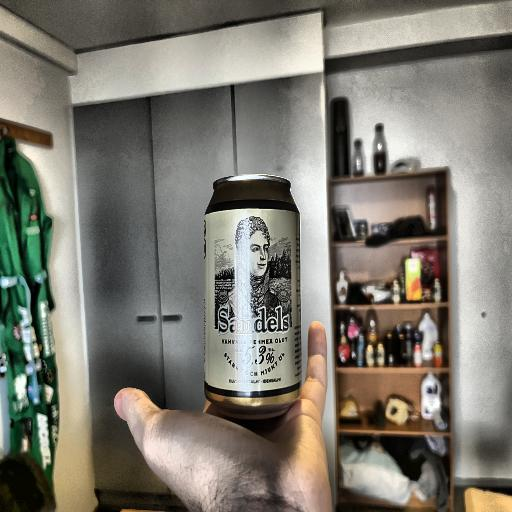sandels: (203, 173, 306, 407)
